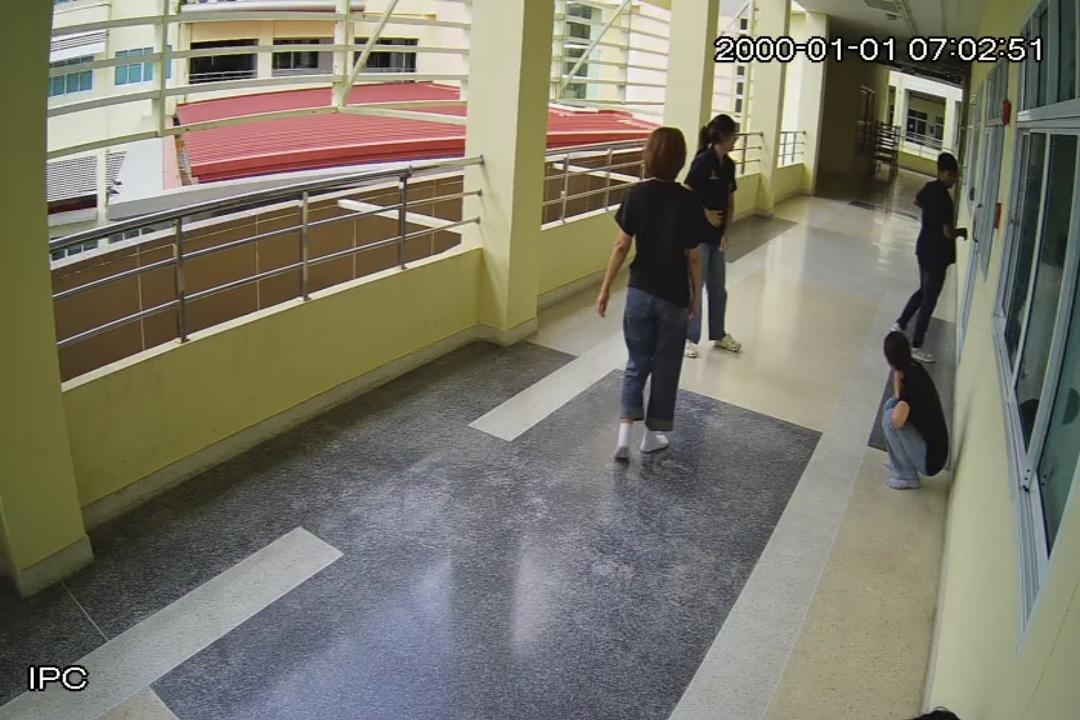normal: (596, 118, 686, 466), (882, 148, 978, 354), (686, 112, 758, 352), (876, 318, 956, 500)
